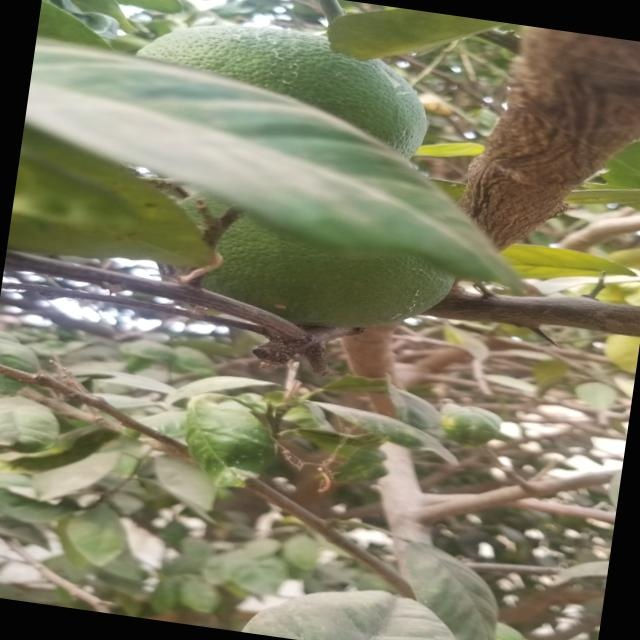agrume: (131, 8, 425, 162)
